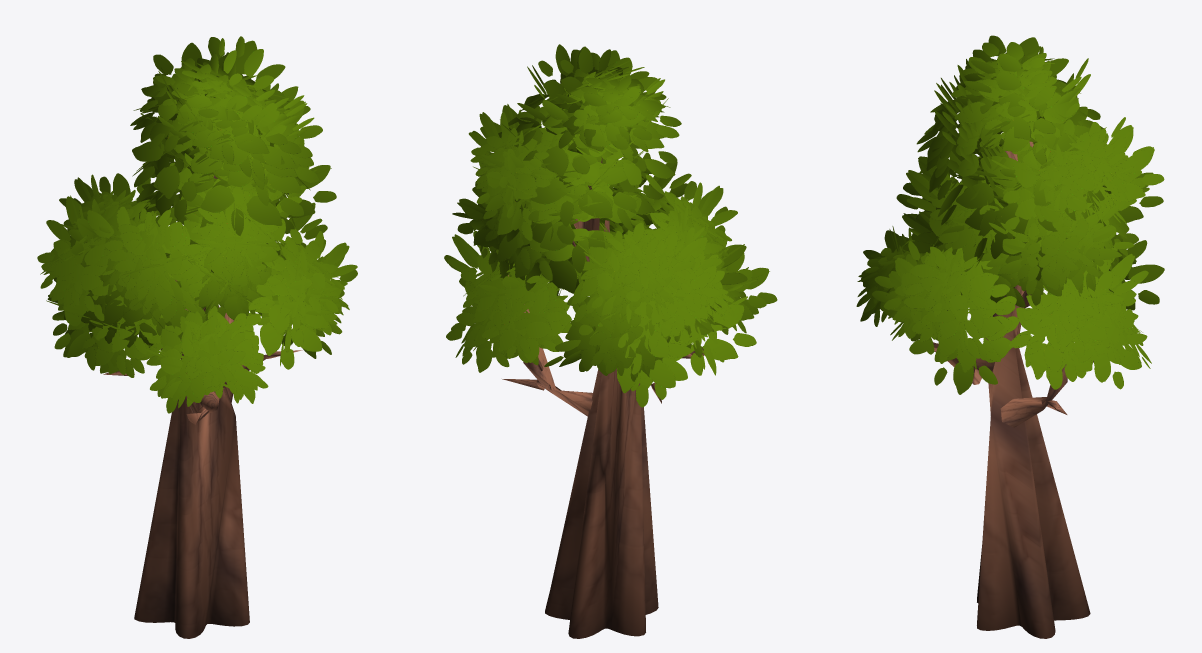
Rendered from mk-common-2-lo.glb.
The picture shows the model from 3 angles, left to right: view 1: azimuth 30°, elevation 25°; view 2: azimuth 150°, elevation 25°; view 3: azimuth 270°, elevation 25°; orthographic projection. The views are drawn at different scales.
Parts seen in each view (by area): view 1: CommonTree_2; view 2: CommonTree_2; view 3: CommonTree_2.
Boxes of the visible parts, x1=… form: CommonTree_2: x1=37, y1=36, x2=357, y2=638; CommonTree_2: x1=444, y1=44, x2=777, y2=638; CommonTree_2: x1=856, y1=35, x2=1164, y2=638.
Bounding box in the file's own units: 4.73 × 7.72 × 4.29.
2 materials, 2 textured.
